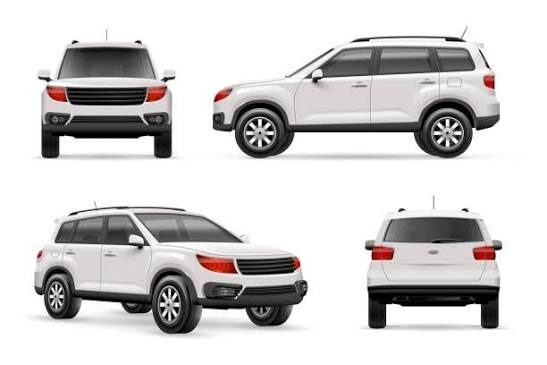car: (225, 33, 500, 164), (37, 205, 291, 329), (361, 209, 498, 327), (38, 36, 176, 153), (41, 36, 177, 153)
